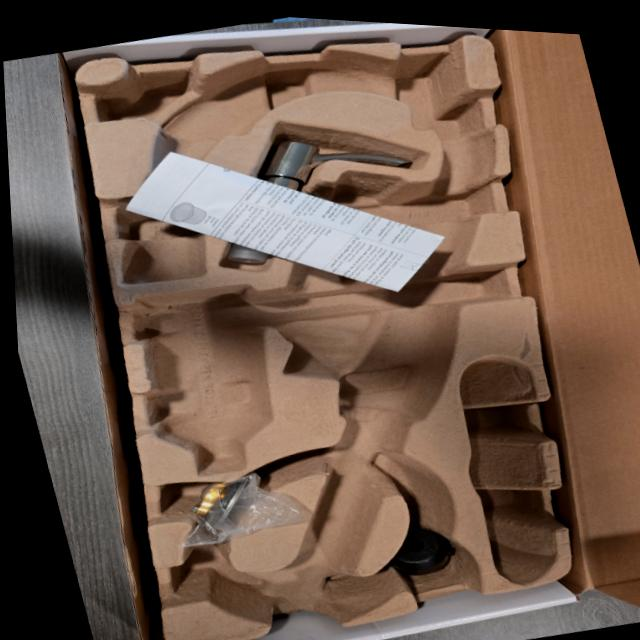1m: (122, 52, 494, 633)
2o: (232, 138, 415, 265)
3m: (133, 284, 273, 474)
4m: (461, 355, 556, 584)
5: (393, 528, 456, 576)
6: (184, 470, 308, 545)
7m: (170, 552, 269, 611)
8: (125, 151, 447, 292)
